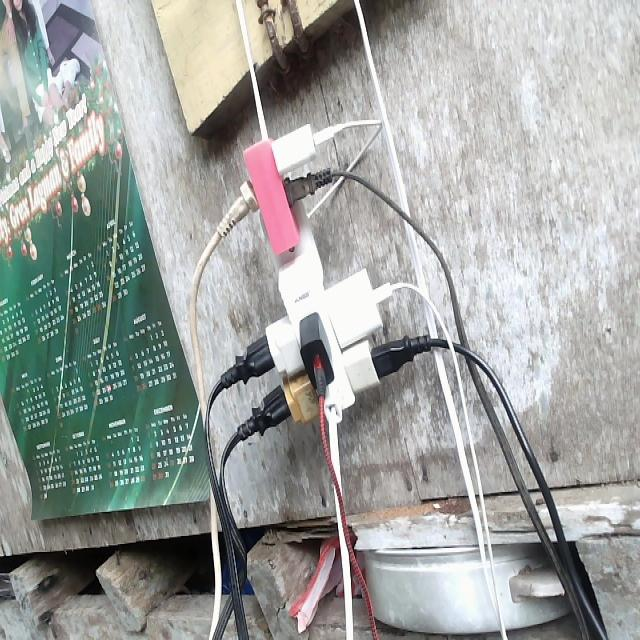-: (204, 119, 412, 440)
